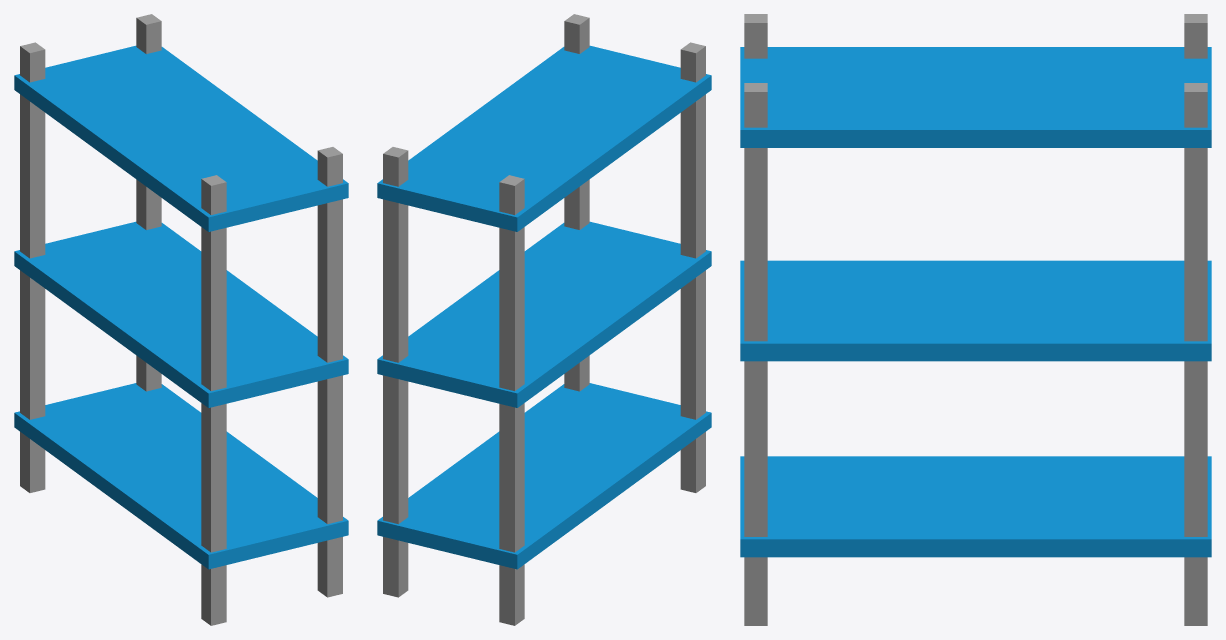
Rendered from StockRack_lod_2.fbx.
3 views of the same model, side by side, from view 1: azimuth 30°, elevation 25°; view 2: azimuth 150°, elevation 25°; view 3: azimuth 270°, elevation 25° (orthographic). The views are drawn at different scales.
Parts seen in each view (by area): view 1: StoreRack_lod_2; view 2: StoreRack_lod_2; view 3: StoreRack_lod_2.
Part boxes in pixels (<box>): StoreRack_lod_2: <box>14,14,348,625</box>; StoreRack_lod_2: <box>377,14,711,625</box>; StoreRack_lod_2: <box>740,14,1211,625</box>.
Bounding box in the file's own units: 100 × 300 × 240.
